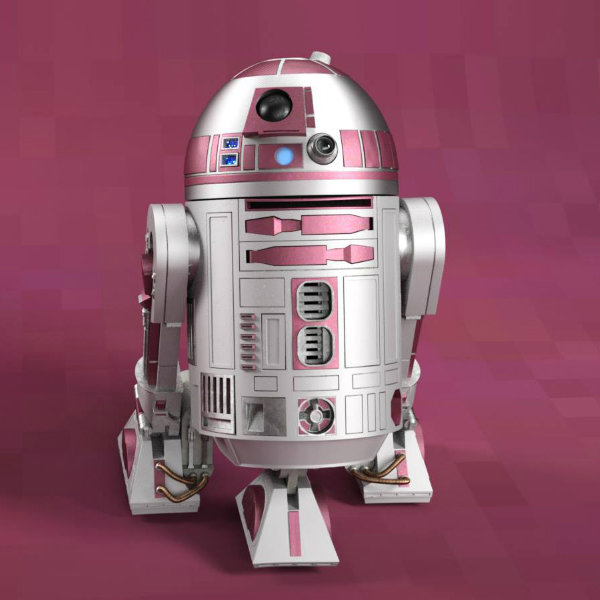r2d2: (117, 50, 433, 565)
